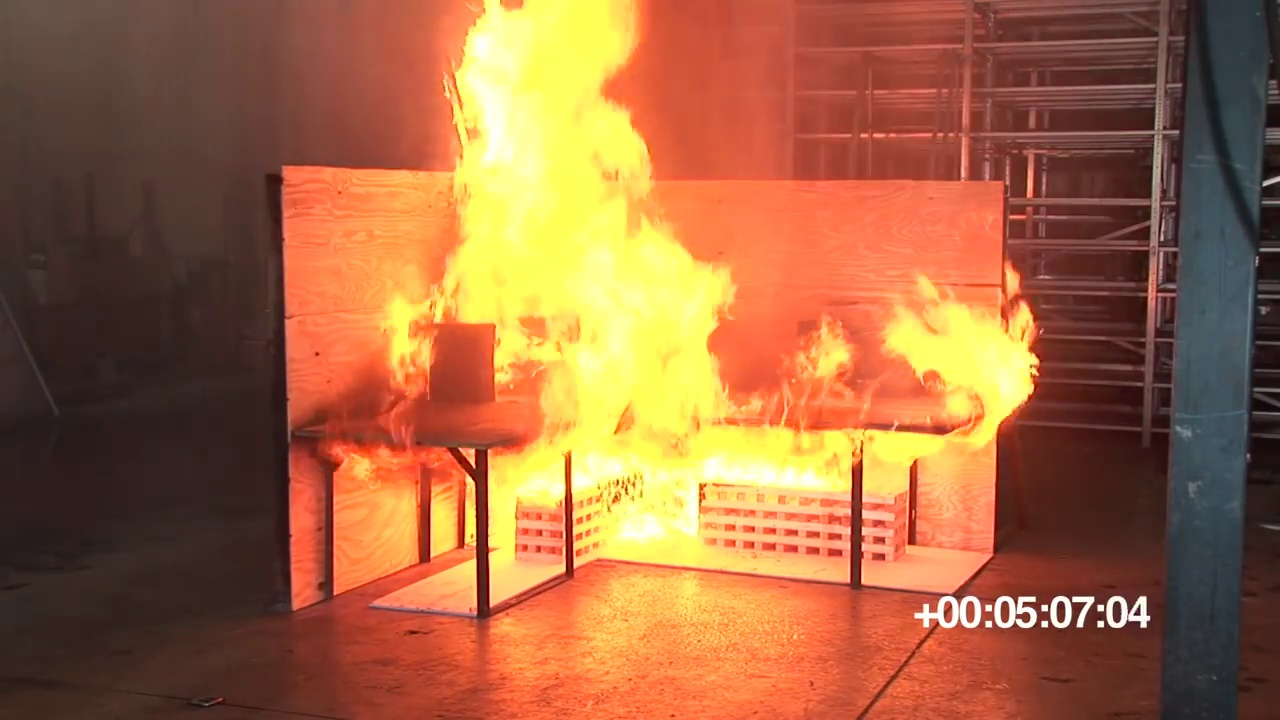fire: (458, 4, 734, 487), (732, 266, 1037, 488), (382, 301, 429, 387)
